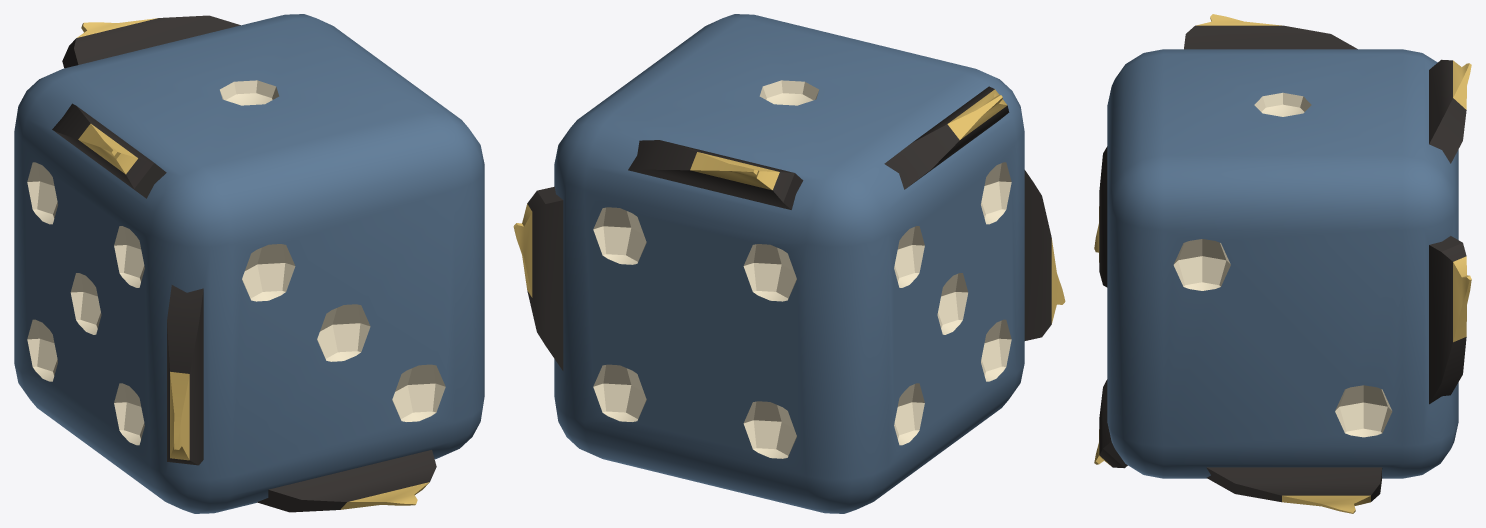
The model's file is wanderer_d6.glb.
3 views of the same model, side by side, from view 1: azimuth 30°, elevation 25°; view 2: azimuth 150°, elevation 25°; view 3: azimuth 270°, elevation 25° (orthographic). The views are drawn at different scales.
Parts seen in each view (by area): view 1: WandererD6; view 2: WandererD6; view 3: WandererD6.
Part boxes in pixels (x1,y1,x2,y2): WandererD6: (14, 14, 484, 513); WandererD6: (513, 14, 1065, 513); WandererD6: (1094, 14, 1471, 513).
Bounding box in the file's own units: 0.086 × 0.086 × 0.086.
